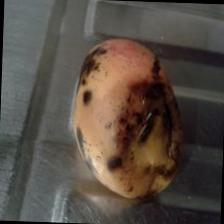Mango Overripe: (68, 32, 188, 201)
